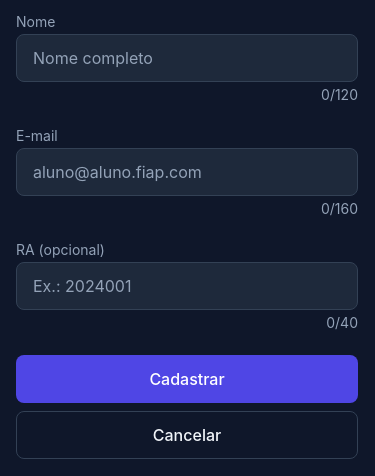
Test: criação › recusa e-mail malformado
The image size is (375, 476).
Step 1. Type "Ana Souza" into the field labelled "Nome" → (187, 58), box [16,34,358,82]
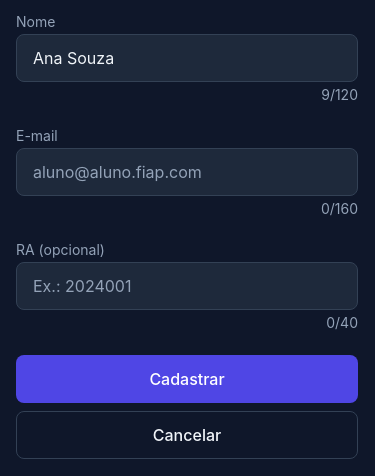
Step 2. Type "ana" into the field named "E-mail" → (187, 172), box [16,148,358,196]
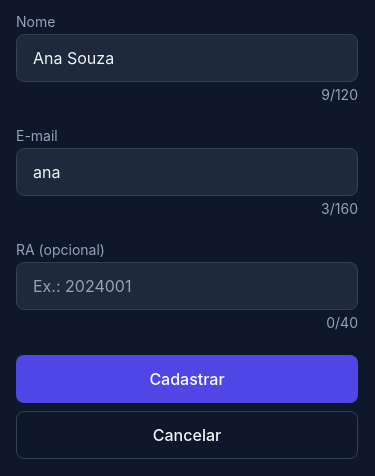
Step 3. Click the button "Cadastrar" → (187, 379), box [16,355,358,403]
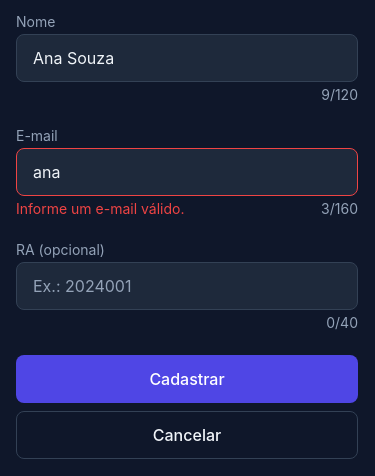
Now the text "Informe um e-mail válido." is shown, box [16,200,184,217]
